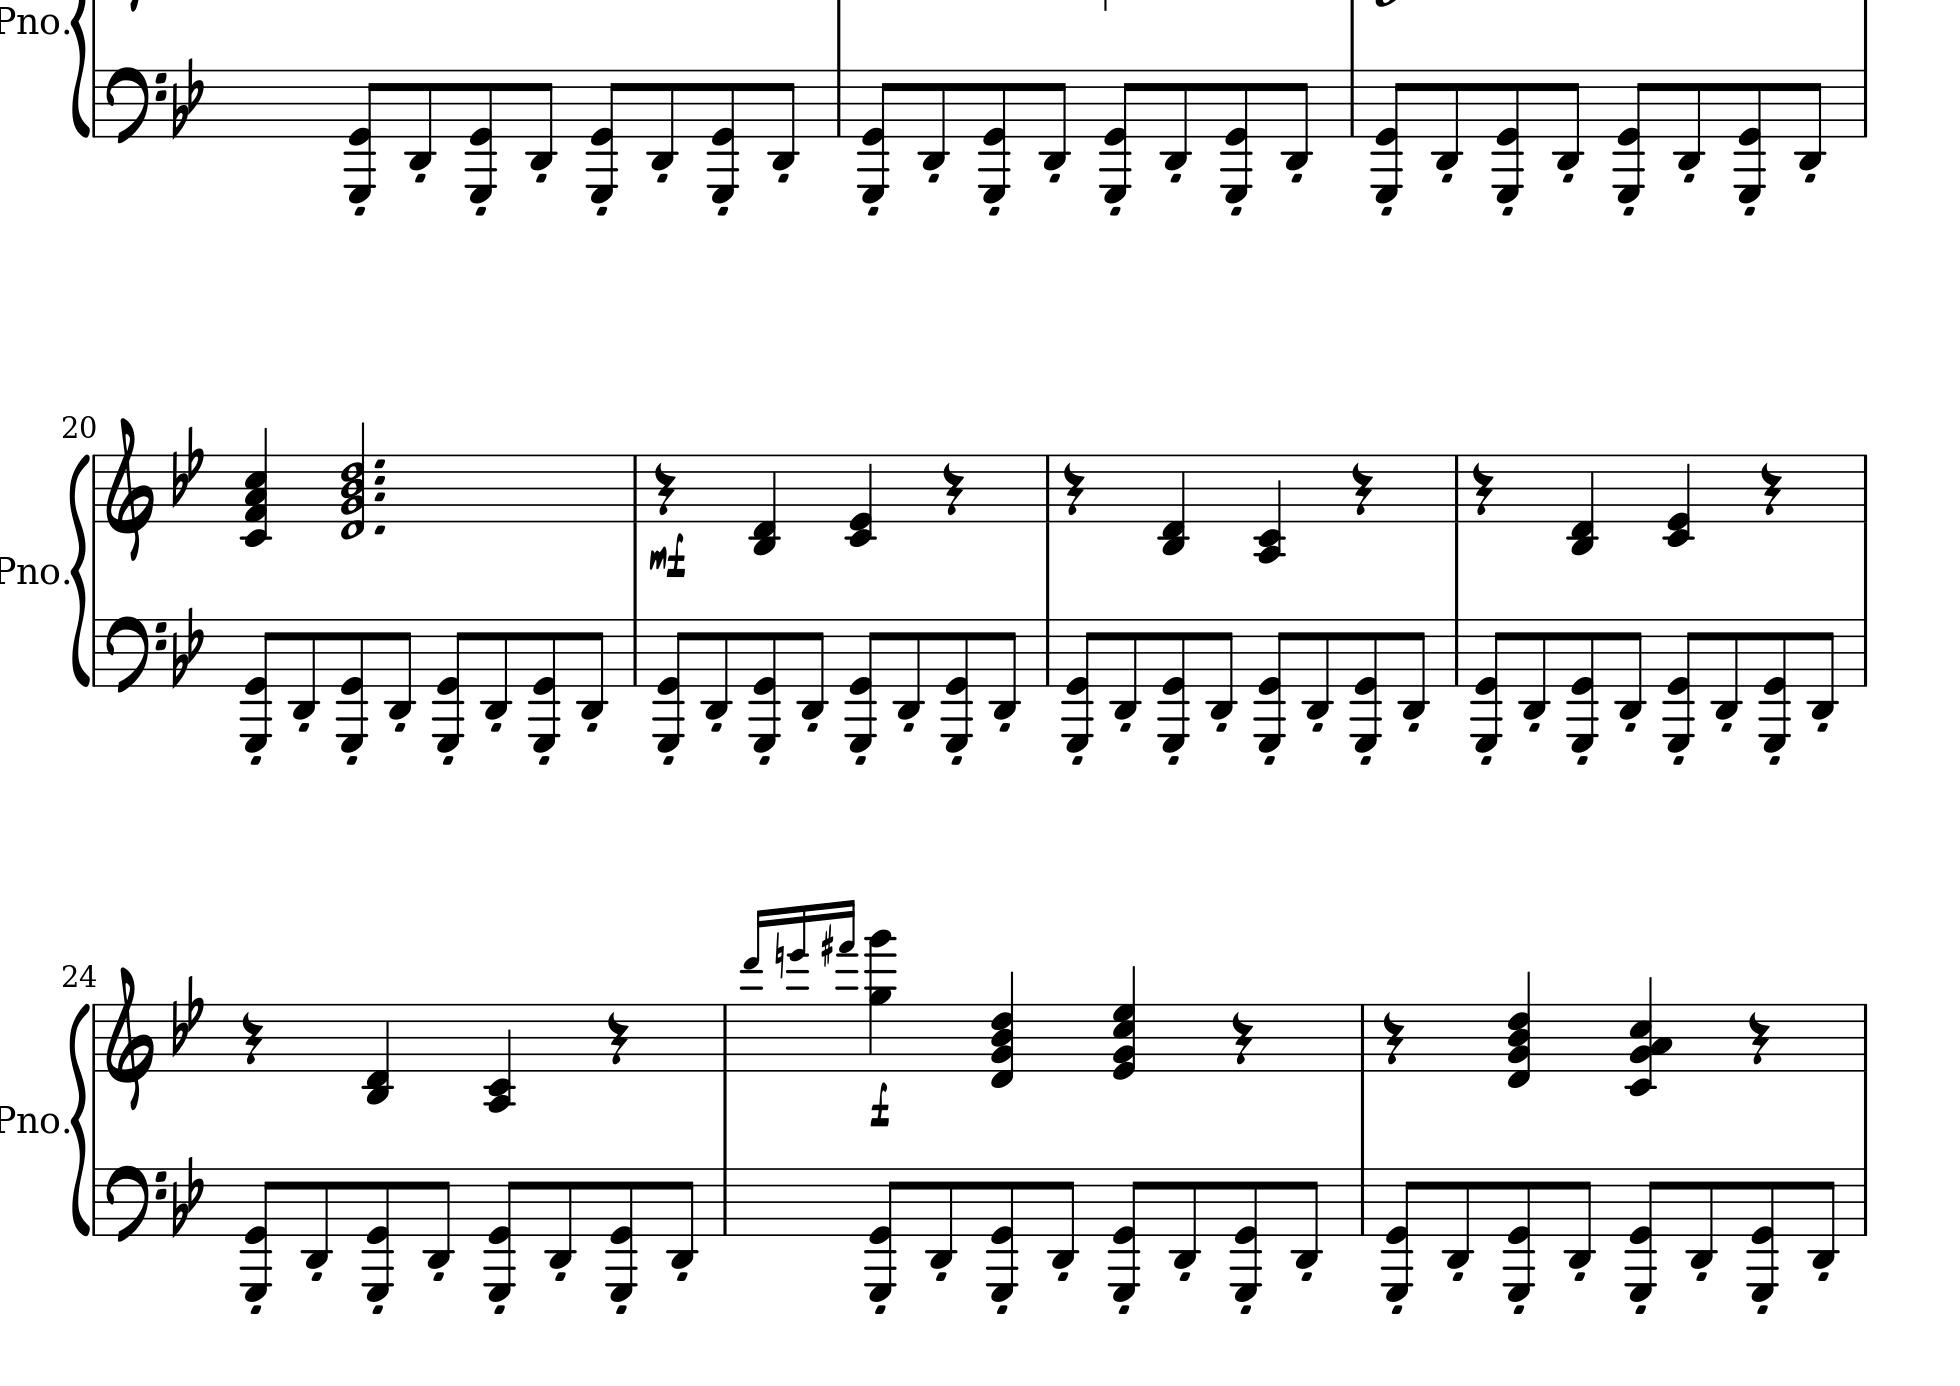0: (79, 411, 96, 439)
2: (60, 412, 79, 439), (60, 961, 79, 988)
2_4th: (340, 418, 367, 543)
4: (79, 961, 97, 990)
4_-2_0: (844, 453, 879, 549), (1663, 453, 1698, 547)
4_-3_-1: (748, 453, 781, 556), (1158, 454, 1191, 555), (364, 1003, 394, 1105), (1569, 454, 1599, 555)
4_-4_-2: (484, 1003, 519, 1114), (1254, 454, 1288, 564)
4_4th: (1627, 973, 1674, 1096), (238, 424, 273, 550), (990, 970, 1017, 1089), (1506, 970, 1533, 1089), (1113, 964, 1137, 1081)
4_9_16: (862, 928, 898, 1072)
8_-3: (646, 67, 679, 172), (1674, 67, 1707, 172), (1170, 1165, 1203, 1270), (1161, 67, 1194, 171), (1041, 67, 1072, 172), (1282, 67, 1314, 172), (301, 1165, 333, 1270), (546, 1165, 577, 1270), (1687, 1165, 1719, 1270), (526, 69, 558, 172), (1432, 69, 1464, 172), (577, 616, 607, 724), (1554, 69, 1585, 171), (919, 67, 949, 172), (289, 616, 319, 721), (385, 616, 415, 721), (481, 616, 511, 721), (702, 616, 732, 721), (798, 616, 828, 721), (1521, 616, 1551, 721), (1617, 616, 1647, 721), (1713, 616, 1743, 721), (424, 1165, 454, 1270), (927, 1165, 957, 1270), (1050, 1165, 1080, 1270), (1566, 1165, 1596, 1270), (406, 69, 436, 172), (769, 67, 799, 171), (1293, 1165, 1323, 1269), (1444, 1165, 1474, 1269), (895, 616, 924, 723), (991, 616, 1020, 723), (1795, 67, 1824, 172), (1111, 616, 1140, 721), (1207, 616, 1236, 721), (1305, 616, 1333, 721), (1401, 616, 1429, 721), (1809, 616, 1837, 721), (669, 1165, 697, 1270), (1809, 1167, 1837, 1270)
8_-7_0: (462, 67, 502, 202), (583, 67, 624, 202), (343, 67, 382, 202), (705, 67, 739, 205), (859, 64, 894, 202), (978, 67, 1012, 205), (1219, 67, 1254, 205), (1372, 67, 1407, 205), (1732, 67, 1767, 205), (1758, 615, 1792, 753), (1663, 616, 1698, 754), (1470, 616, 1504, 754), (1351, 616, 1386, 754), (1156, 616, 1191, 754), (1062, 615, 1096, 753), (747, 616, 781, 754), (654, 616, 688, 754), (432, 615, 466, 753), (336, 615, 370, 753), (484, 1164, 519, 1302), (864, 1164, 898, 1302), (1108, 1165, 1143, 1303), (1383, 1165, 1417, 1303), (1500, 1165, 1534, 1303), (1629, 1165, 1663, 1303), (1744, 1165, 1779, 1303), (1101, 66, 1134, 204), (1491, 67, 1524, 205), (1614, 66, 1647, 204), (1566, 616, 1599, 754), (1257, 616, 1290, 754), (940, 615, 973, 753), (844, 615, 877, 753), (529, 616, 562, 754), (241, 616, 274, 754), (241, 1165, 274, 1303), (361, 1165, 394, 1303), (604, 1165, 637, 1303), (984, 1165, 1017, 1303), (1230, 1165, 1263, 1303)
B_F: (169, 424, 205, 508), (169, 973, 205, 1057), (169, 1153, 204, 1237), (169, 604, 204, 687), (169, 55, 202, 139)
Brace: (69, 450, 91, 687), (69, 1000, 90, 1237)
Fclef: (103, 64, 166, 147), (103, 1162, 166, 1245), (103, 613, 166, 694)
Gclef: (103, 964, 156, 1110), (103, 415, 154, 561)
Natural: (772, 928, 786, 978)
Pno: (1, 4, 60, 40), (1, 1102, 60, 1138), (1, 553, 58, 588)
Rests4: (1350, 460, 1375, 517), (604, 1009, 630, 1066), (940, 460, 964, 517), (1062, 460, 1086, 517), (1470, 460, 1494, 517), (1759, 460, 1783, 517), (1230, 1009, 1254, 1066), (1381, 1009, 1405, 1066), (1747, 1009, 1771, 1066), (652, 460, 675, 517), (240, 1009, 262, 1066)
Sharp: (819, 922, 835, 967)
Single_barline: (1344, 69, 1362, 136), (829, 70, 847, 136), (715, 1003, 733, 1069), (1449, 454, 1465, 523), (1039, 618, 1056, 687), (1857, 1003, 1873, 1071), (1354, 1167, 1371, 1234), (627, 454, 643, 520), (627, 619, 643, 685), (1354, 1003, 1371, 1069), (717, 1168, 733, 1234), (1857, 618, 1872, 687), (1857, 1167, 1872, 1236), (1041, 454, 1056, 522), (1857, 454, 1872, 522), (1449, 618, 1464, 685), (1857, 70, 1872, 136), (88, 454, 102, 523), (88, 1003, 102, 1072), (88, 70, 102, 135), (88, 619, 102, 684), (88, 1168, 102, 1231)
dot: (372, 522, 387, 538), (370, 472, 388, 486), (372, 487, 387, 502), (370, 457, 387, 471)
f: (868, 1081, 891, 1129)
mf: (646, 529, 688, 579)
